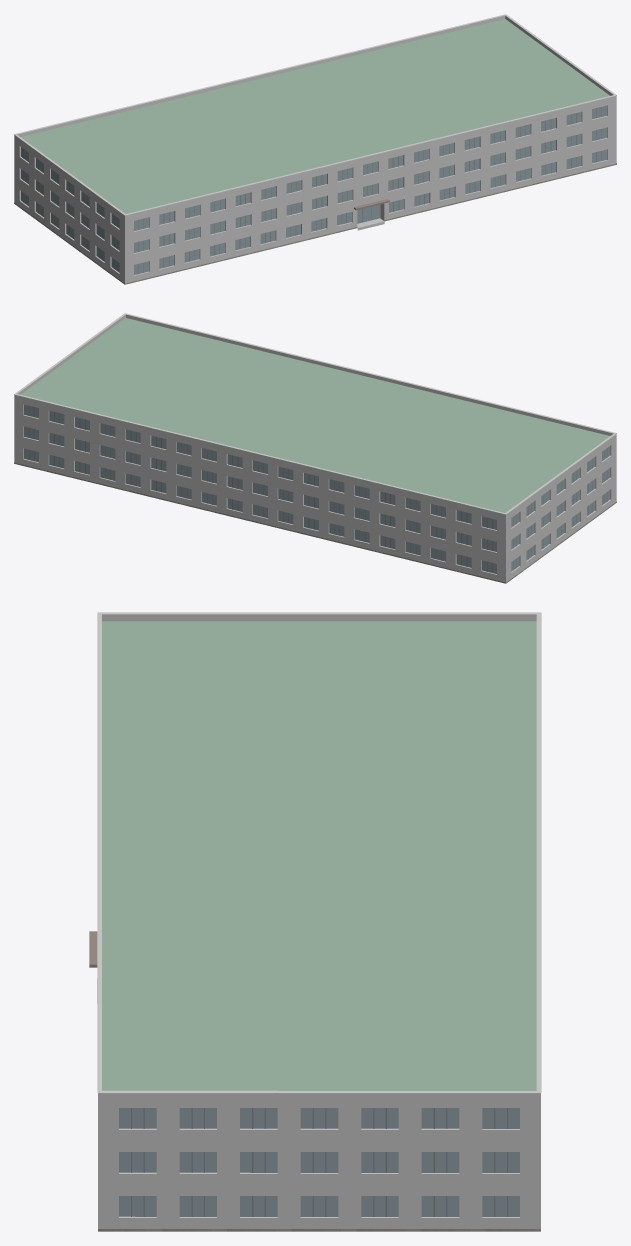
3 views of the same model, one above another, from view 1: azimuth 30°, elevation 25°; view 2: azimuth 150°, elevation 25°; view 3: azimuth 270°, elevation 25° (orthographic). The views are drawn at different scales.
Visible parts, largest first — view 1: osm631011014__roof, osm631011014__wall, osm631011014__glass, osm631011014__parapet, osm631011014__trim, osm631011014__frame, osm631011014__base; view 2: osm631011014__roof, osm631011014__wall, osm631011014__glass, osm631011014__parapet, osm631011014__trim, osm631011014__frame, osm631011014__base; view 3: osm631011014__roof, osm631011014__wall, osm631011014__glass, osm631011014__trim, osm631011014__parapet, osm631011014__frame, osm631011014__base.
Boxes of the visible parts, bbox=[...] form: osm631011014__roof: bbox=[21, 19, 609, 213]; osm631011014__wall: bbox=[14, 99, 616, 284]; osm631011014__glass: bbox=[21, 105, 606, 274]; osm631011014__parapet: bbox=[14, 15, 616, 218]; osm631011014__trim: bbox=[14, 14, 616, 215]; osm631011014__frame: bbox=[23, 107, 601, 273]; osm631011014__base: bbox=[14, 163, 616, 284]; osm631011014__roof: bbox=[21, 318, 609, 512]; osm631011014__wall: bbox=[14, 398, 616, 583]; osm631011014__glass: bbox=[24, 404, 609, 573]; osm631011014__parapet: bbox=[14, 314, 616, 517]; osm631011014__trim: bbox=[14, 313, 616, 514]; osm631011014__frame: bbox=[29, 406, 607, 572]; osm631011014__base: bbox=[14, 462, 616, 583]; osm631011014__roof: bbox=[102, 621, 536, 1090]; osm631011014__wall: bbox=[98, 1099, 540, 1228]; osm631011014__glass: bbox=[119, 1108, 519, 1216]; osm631011014__trim: bbox=[97, 612, 541, 1093]; osm631011014__parapet: bbox=[98, 614, 540, 1099]; osm631011014__frame: bbox=[131, 1108, 507, 1216]; osm631011014__base: bbox=[98, 1229, 540, 1231].
Size of the model in its own units: 84.28 by 11.75 by 33.53.
Materials: 10 (1 with a texture image).
